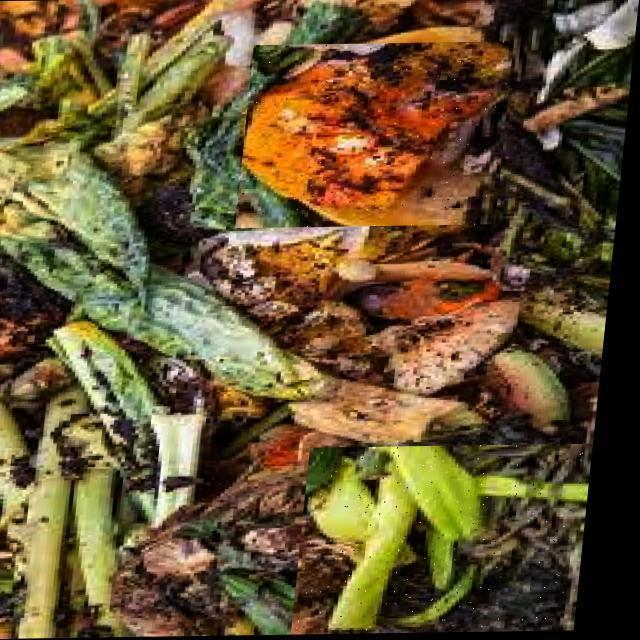other-trash: (1, 1, 628, 635)
